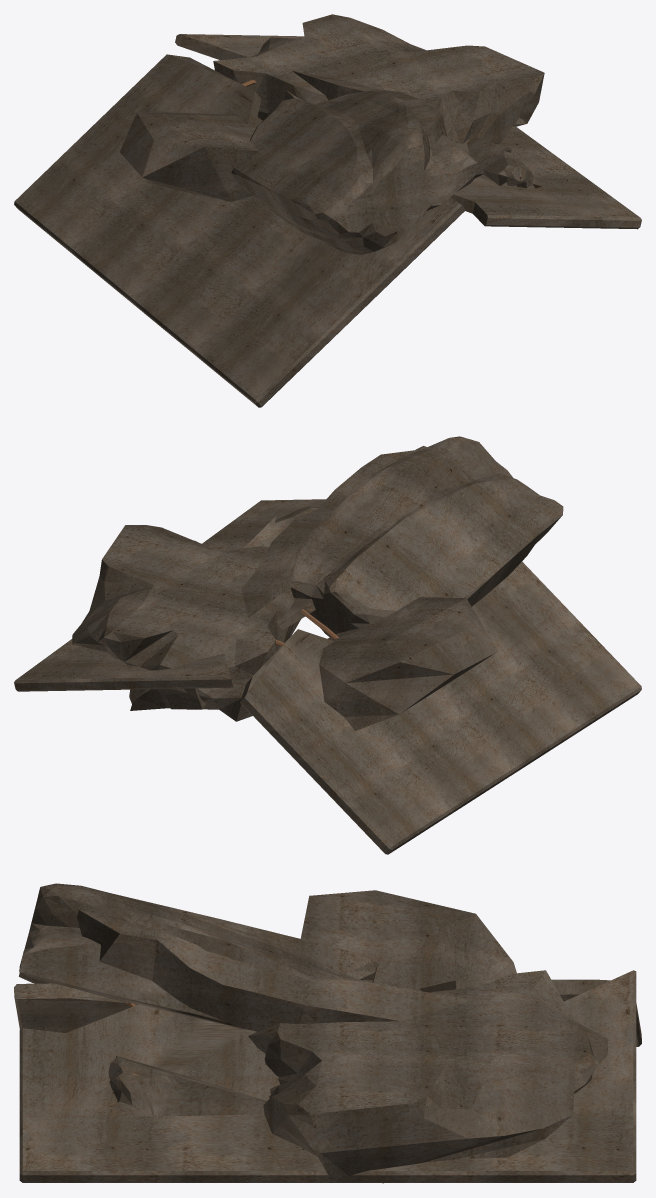
File: rubble_heap.glb
The picture shows the model from 3 angles, top to bottom: view 1: azimuth 30°, elevation 25°; view 2: azimuth 150°, elevation 25°; view 3: azimuth 270°, elevation 25°; orthographic projection. The views are drawn at different scales.
Parts seen in each view (by area): view 1: rubble_heap; view 2: rubble_heap; view 3: rubble_heap.
Boxes of the visible parts, bbox=[...] form: rubble_heap: bbox=[14, 14, 641, 407]; rubble_heap: bbox=[14, 436, 641, 854]; rubble_heap: bbox=[14, 883, 641, 1183].
Size of the model in its own units: 1.88 by 1 by 2.04.
1 material, 1 textured.
